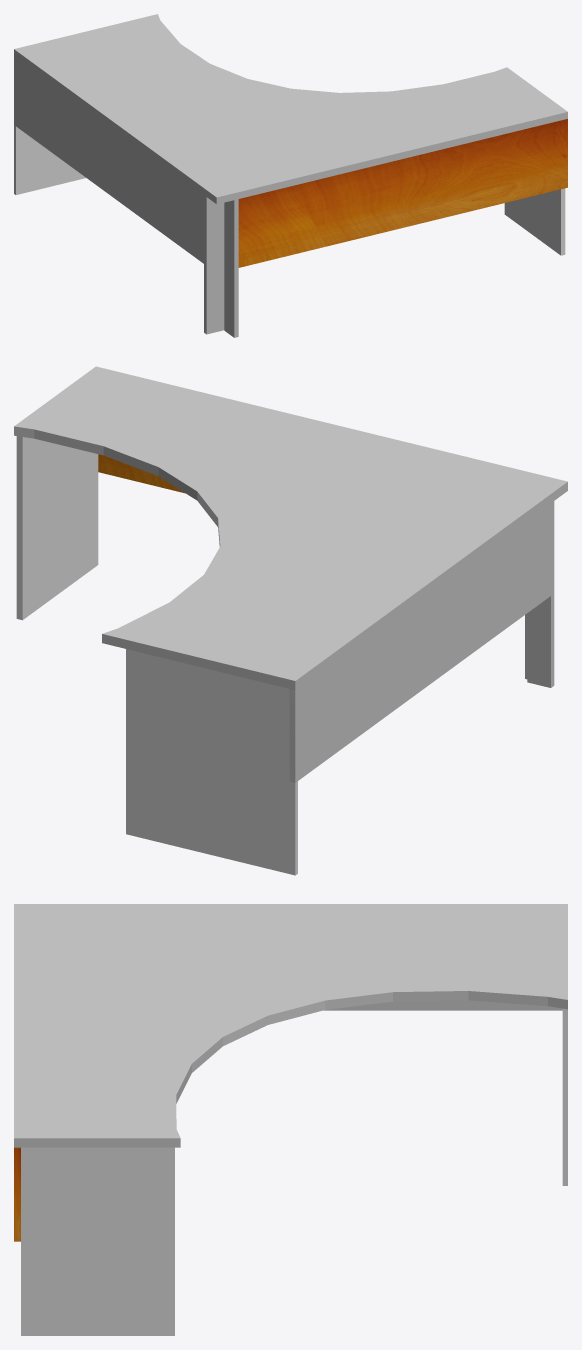
The model's file is TexturedBigTable.fbx.
The picture shows the model from 3 angles, top to bottom: view 1: azimuth 30°, elevation 25°; view 2: azimuth 150°, elevation 25°; view 3: azimuth 270°, elevation 25°; orthographic projection. The views are drawn at different scales.
Parts seen in each view (by area): view 1: Cube.001, Куб, Куб.001, Куб.002, Куб.004, Куб.005, Куб.003; view 2: Cube.001, Куб.004, Куб.001, Куб.005, Куб.002, Куб; view 3: Cube.001, Куб.005, Куб.001, Куб.004, Куб.
Part boxes in pixels (bbox=[...]): Cube.001: bbox=[14, 14, 567, 204]; Куб: bbox=[238, 119, 567, 267]; Куб.001: bbox=[14, 56, 203, 263]; Куб.002: bbox=[204, 195, 224, 334]; Куб.004: bbox=[14, 125, 85, 194]; Куб.005: bbox=[504, 188, 565, 255]; Куб.003: bbox=[224, 199, 238, 337]; Cube.001: bbox=[14, 366, 567, 690]; Куб.004: bbox=[126, 649, 297, 875]; Куб.001: bbox=[289, 503, 550, 782]; Куб.005: bbox=[16, 436, 98, 620]; Куб.002: bbox=[527, 501, 554, 687]; Куб: bbox=[98, 454, 184, 493]; Cube.001: bbox=[14, 904, 567, 1147]; Куб.005: bbox=[21, 1147, 174, 1335]; Куб.001: bbox=[323, 1000, 562, 1010]; Куб.004: bbox=[562, 1008, 567, 1185]; Куб: bbox=[14, 1147, 20, 1241].
Size of the model in its own units: 160 by 63 by 160.
